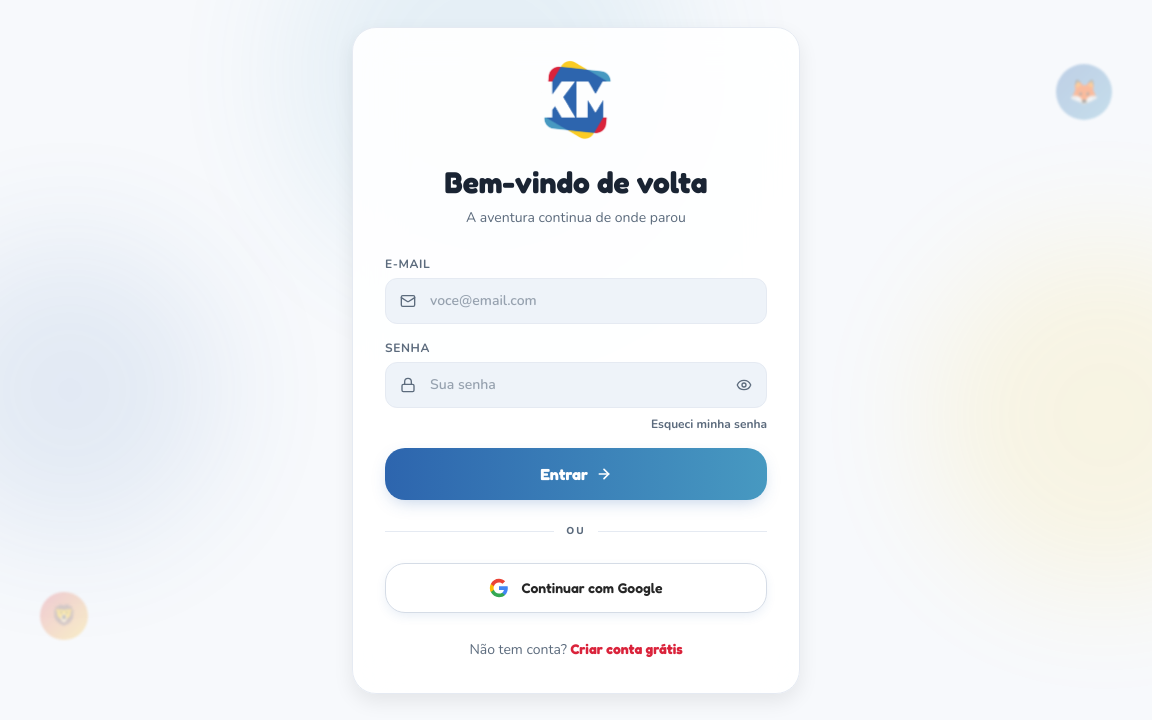
Scenario: LoginPage (Story 6.1) › exibe mensagem de erro quando login() falha
Type "ana@kaionweb.com" into the field labelled "E-mail".
click(598, 300); type("ana@kaionweb.com")  # box [430,278,766,322]
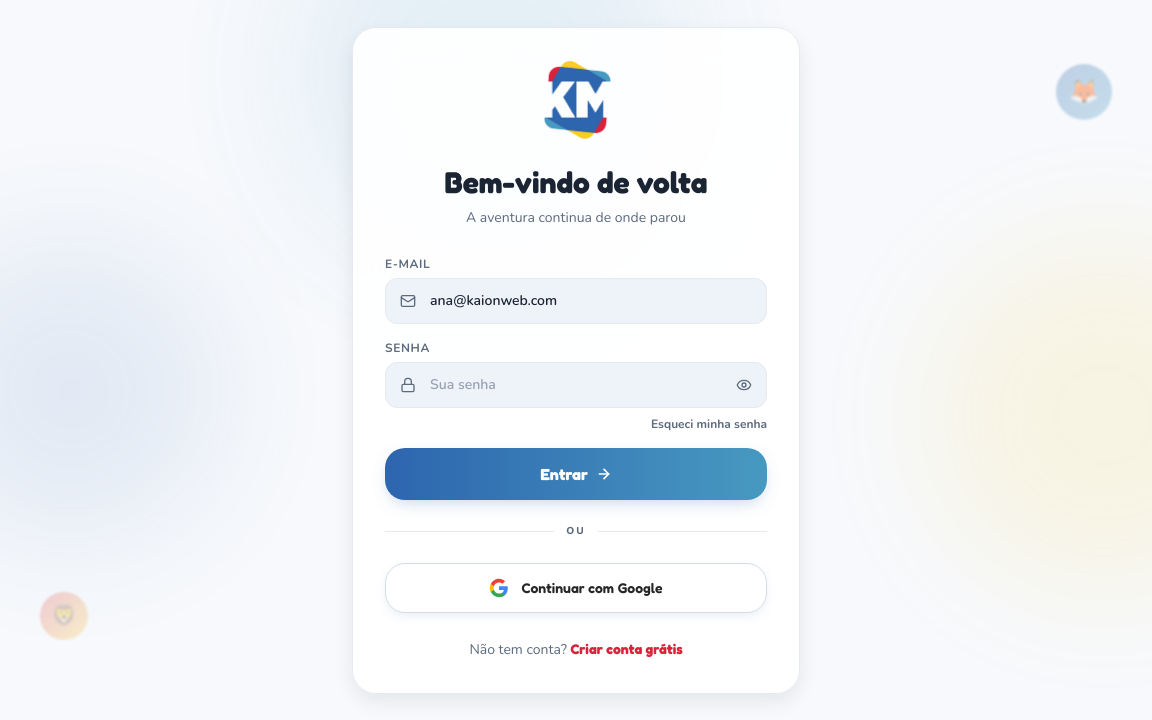
Type "senha-errada" into the password field labelled "Senha".
click(579, 384); type("senha-errada")  # box [430,362,728,406]
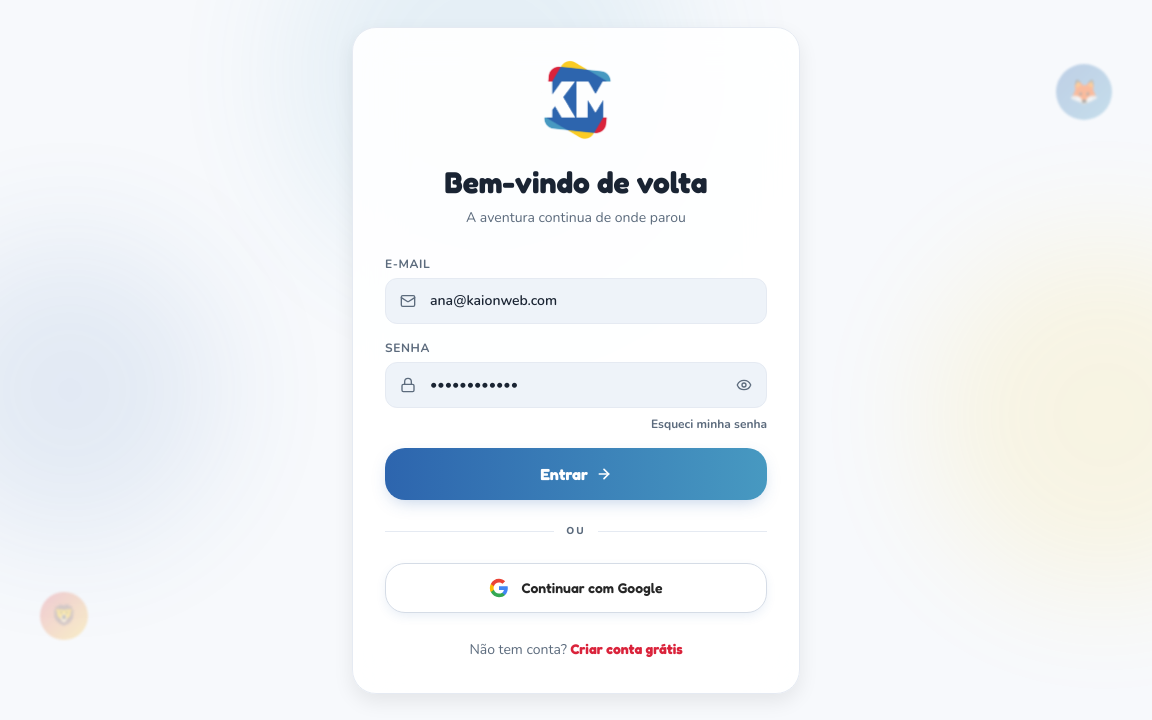
Click the button "Entrar".
click(576, 474)  # box [385,448,767,500]
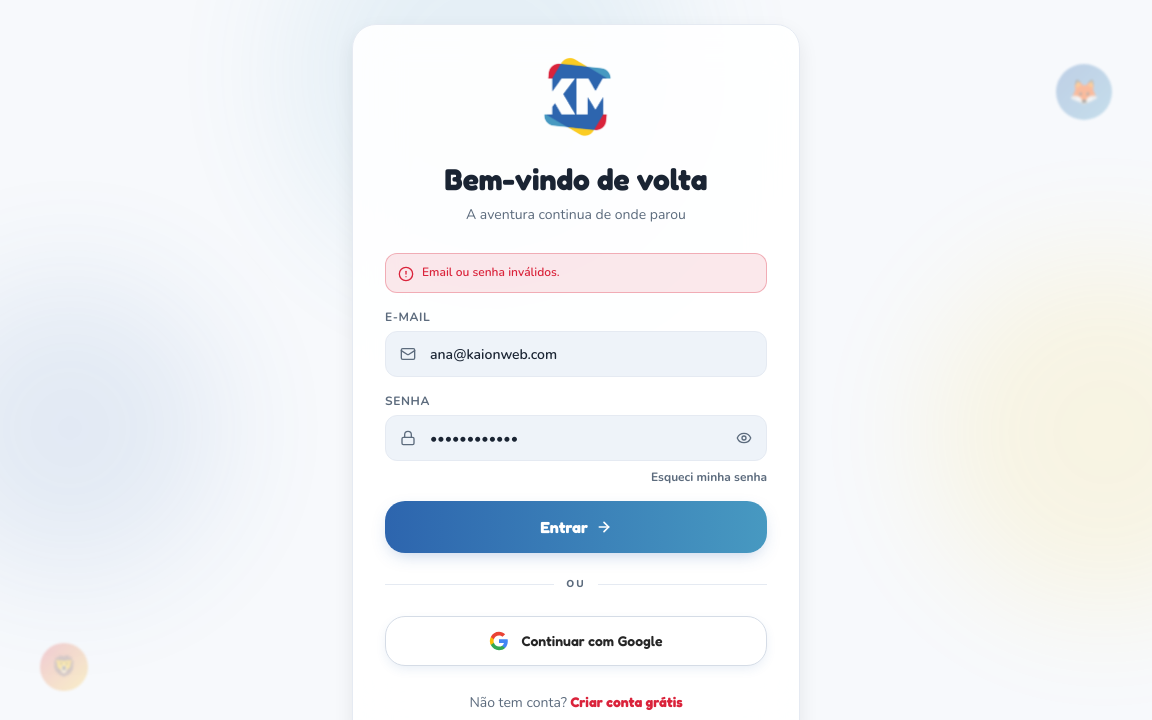
expect the text "Email ou senha inválidos." is shown: met, box [422,264,560,280]
